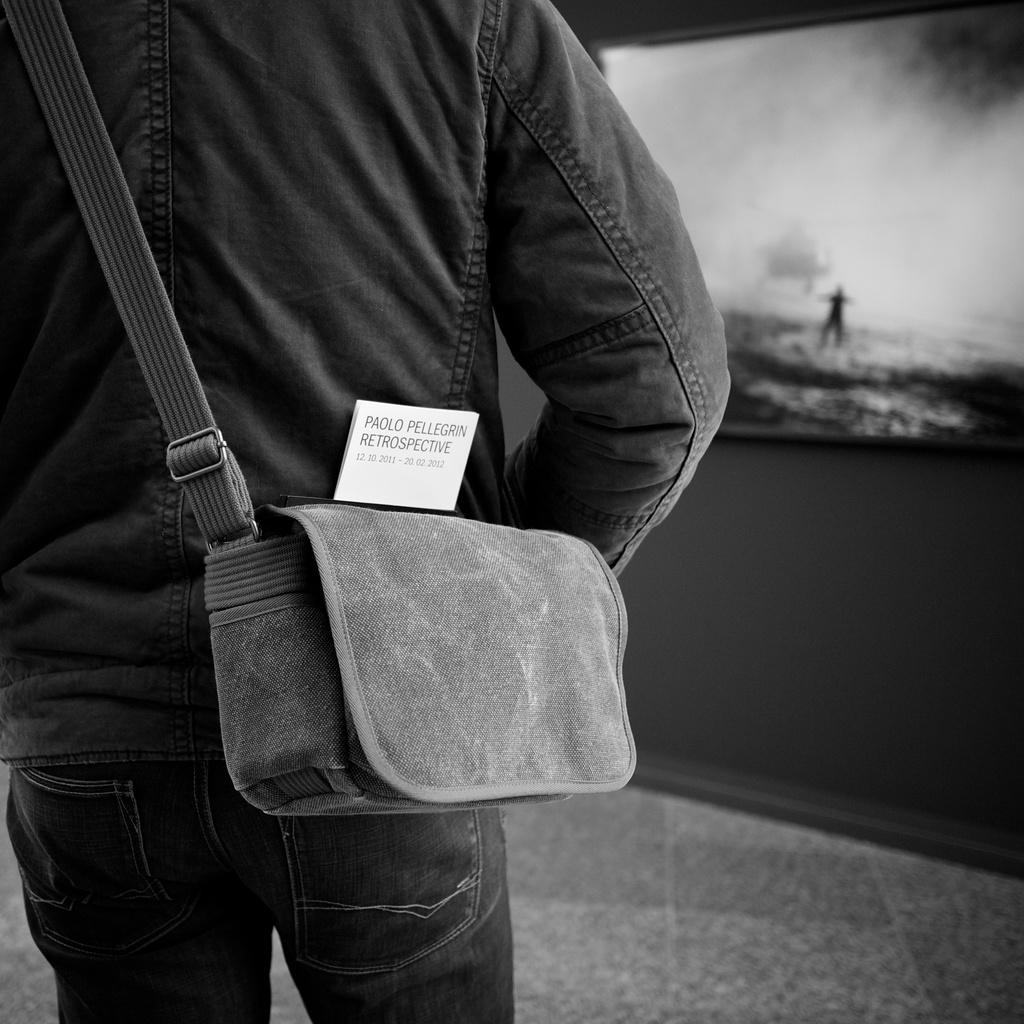Luggage-and-bags: (68, 57, 712, 898)
